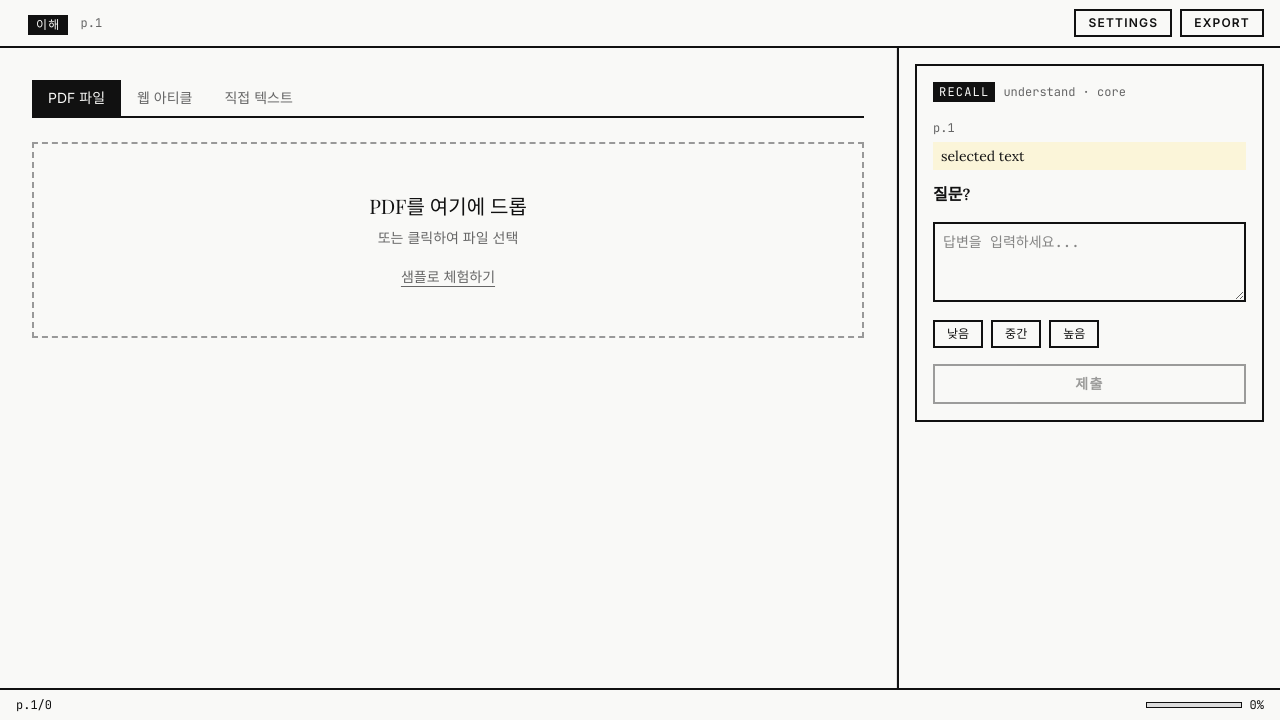
Test: ReadingView › 진행 중 도발 상태에서는 모드 변경 전에 확인 다이얼로그를 띄움
Click the button "이해": (48, 25) 28,15 -> 68,35
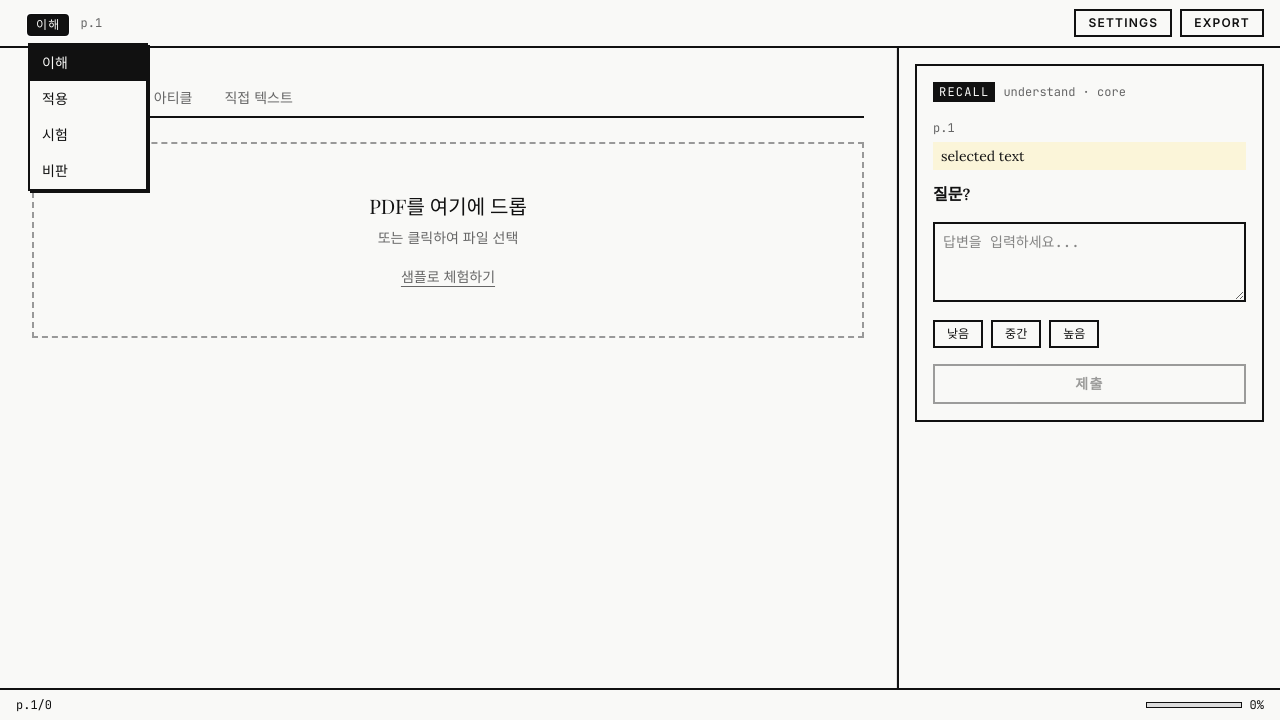
Click the menu item "시험": (88, 135) 30,117 -> 146,153
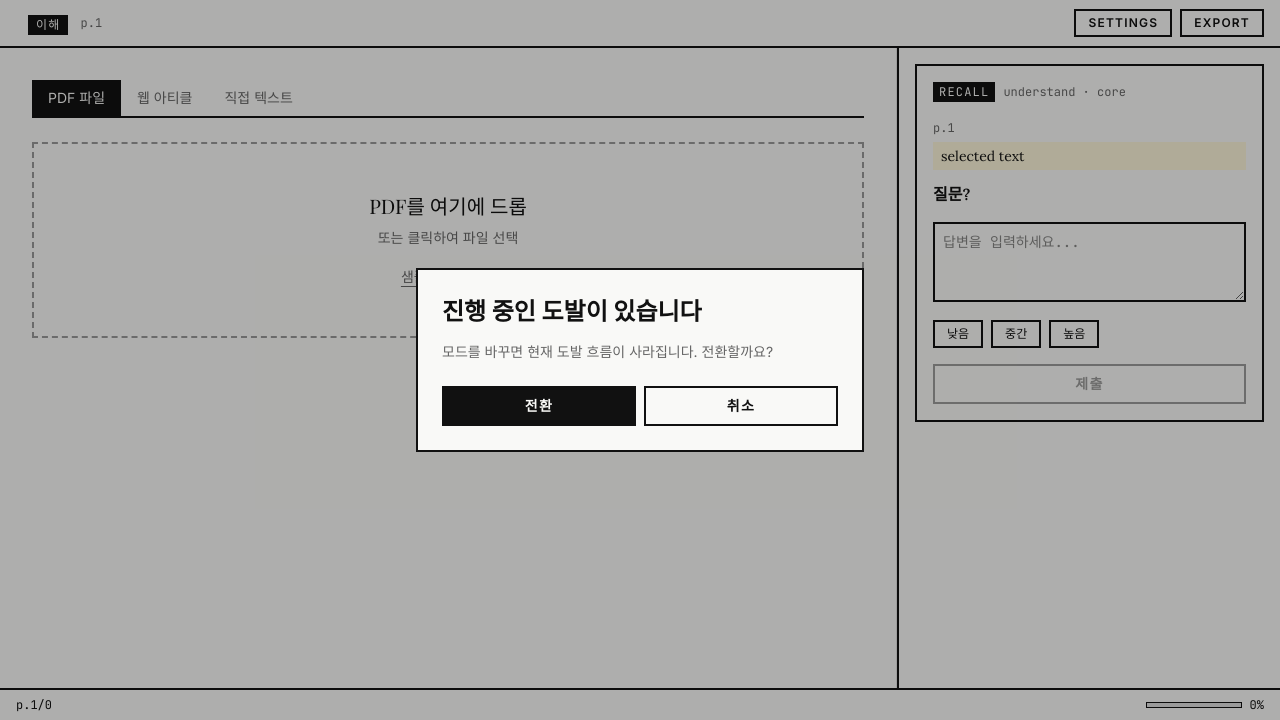
expect the dialog is shown: met, box 416,268 -> 864,452
expect the text "모드를 바꾸면 현재 도발 흐름이 사라집니다. 전환할까요?" is shown: met, box 442,343 -> 773,360
